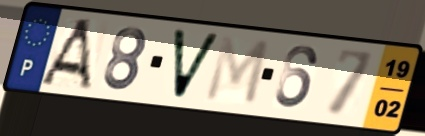6: (274, 44, 321, 112)
7: (324, 46, 375, 118)
8: (102, 25, 149, 93)
A: (37, 16, 95, 93)
M: (202, 34, 273, 109)
V: (170, 26, 224, 103)
